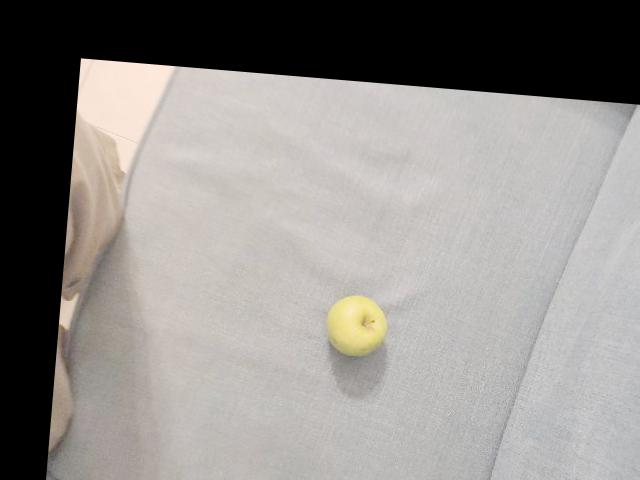apple: (300, 278, 398, 360)
